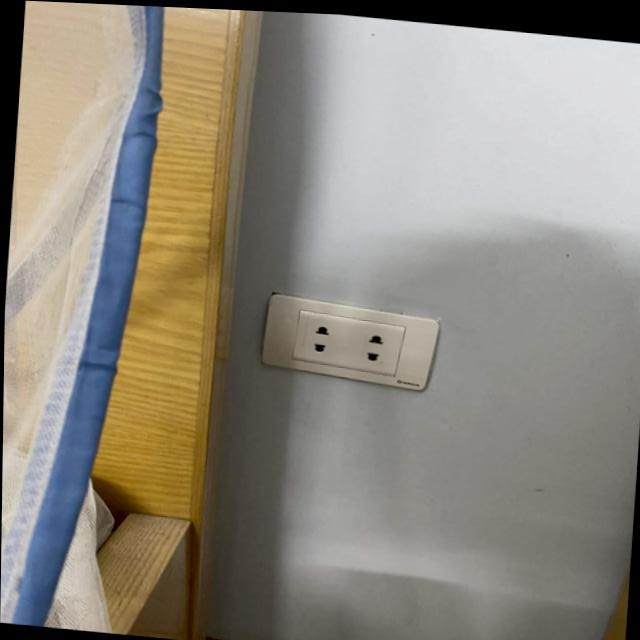outlet: (259, 293, 441, 394)
